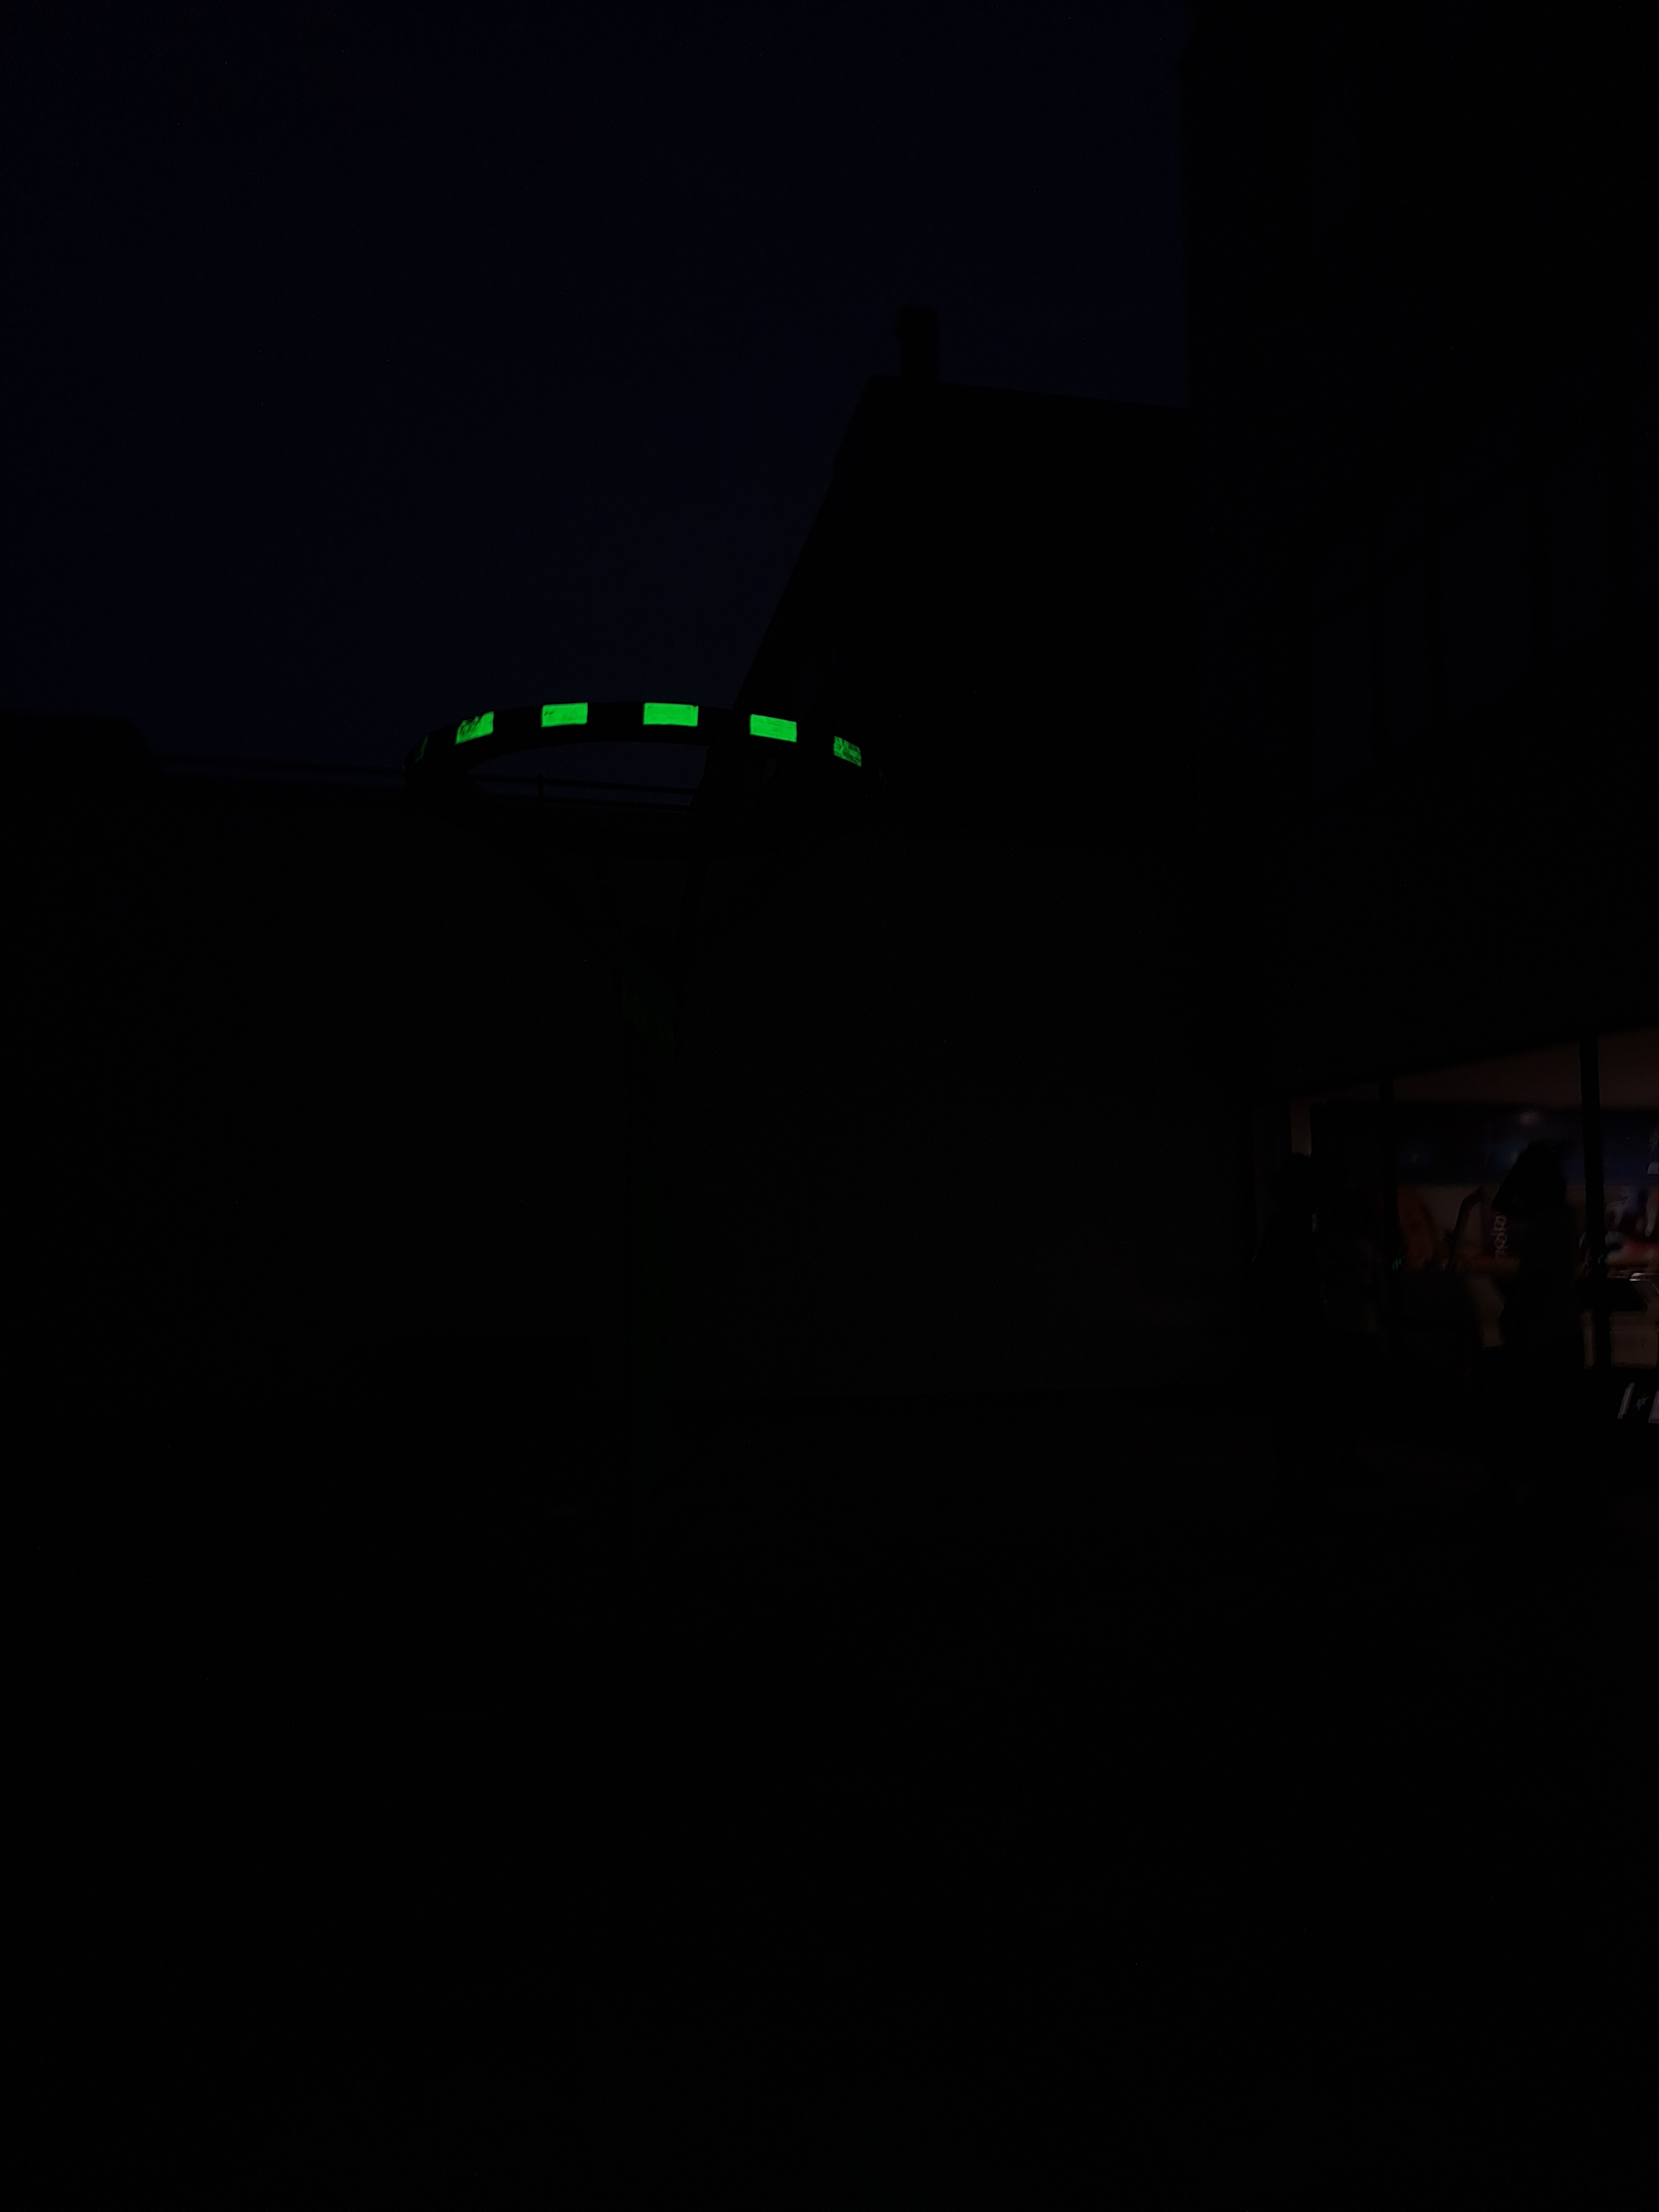hoop: (448, 697, 871, 770)
